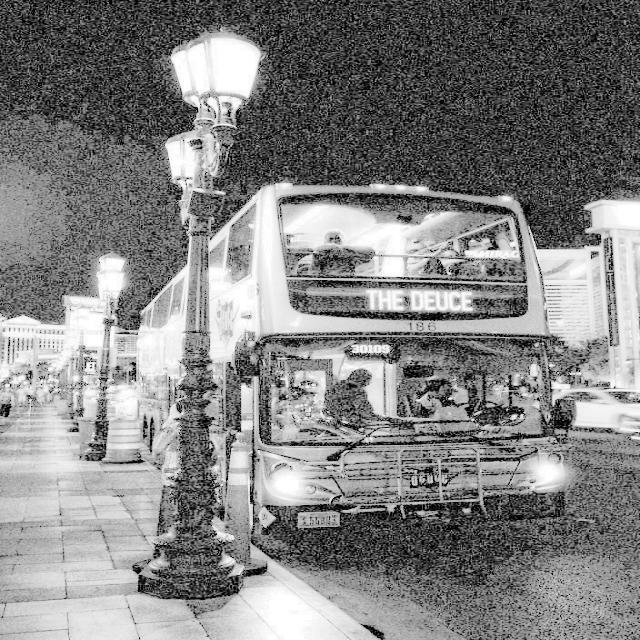Bus: (88, 184, 587, 568)
Car: (534, 361, 640, 476)
